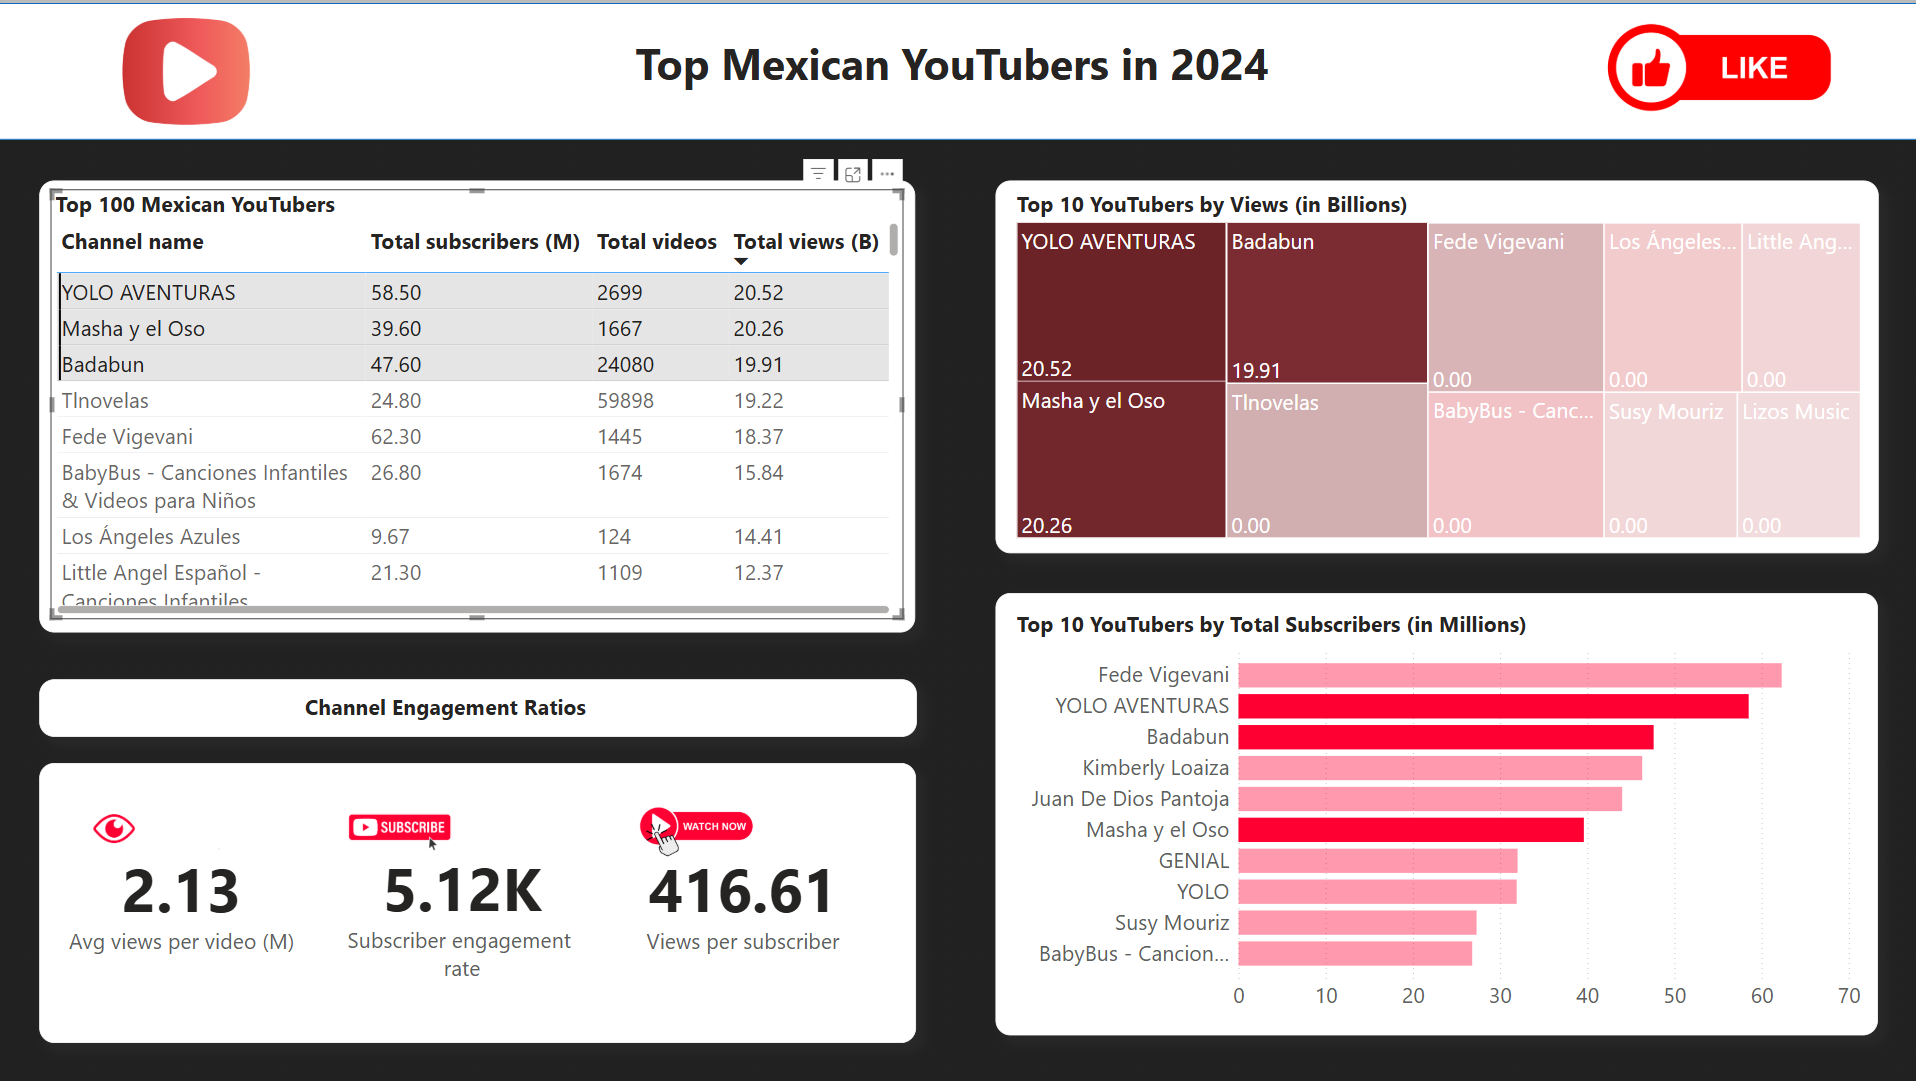

Layout of this report page (visuals, bound fields, positions):
{"tool":"powerbi","page":{"name":"Page 1","canvas":[1920,1080],"ordinal":0},"visuals":[{"type":"shape","title":"White rectangle","box":[0,0,1920,137.1],"z":0},{"type":"shape","title":"White rectangle","box":[41,760,877,280.2],"z":0,"group":"g1"},{"type":"shape","title":"White rectangle","box":[997,177,883,373],"z":1000},{"type":"card","title":"Views per subscriber","fields":{"Values":["_measures.Views per subscriber"]},"box":[614.6,773.3,260.3,248],"z":1000,"group":"g1"},{"type":"shape","title":"White rectangle","box":[997.3,590,882.7,442.7],"z":2000},{"type":"card","title":"Subscriber engagement rate","fields":{"Values":["_measures.Subscribers engagement rate"]},"box":[334.6,772.4,258.8,248],"z":2000,"group":"g1"},{"type":"shape","title":"White rectangle","box":[41.5,676.5,877.7,57.7],"z":3000},{"type":"card","title":"Avg views per video (M)","fields":{"Values":["_measures.Avg_views_per_video (M)"]},"box":[53,773.3,260.3,248],"z":3000,"group":"g1"},{"type":"textbox","title":"Channel Engagement Ratios","box":[297.6,684.2,300,43.1],"z":4000},{"type":"image","title":"Watch now icon","box":[614.6,797.8,167.1,62.4],"z":4000,"group":"g1"},{"type":"shape","title":"T","box":[41.8,177.3,876.4,451.8],"z":5000},{"type":"image","title":"View icon","box":[88,786.7,138.1,83.4],"z":5000,"group":"g1"},{"type":"tableEx","title":"Top 100 Mexican YouTubers","fields":{"Values":["mx_youtubers_data2024.channel_name","_measures.Total_subscribers (M)","_measures.Total_videos","_measures.Total_views (B)"]},"box":[52.7,186.4,852.7,430],"z":6000},{"type":"image","title":"Subscribe icon","box":[320.4,803.7,162.7,49],"z":6000,"group":"g1"},{"type":"treemap","title":"Top 10 YouTubers by Views (in Billions)","fields":{"Group":["mx_youtubers_data2024.channel_name"],"Values":["_measures.Total views (B)"]},"box":[1014,186,854,354],"z":7000},{"type":"clusteredBarChart","title":"Top 10 YouTubers by Total Subscribers (in Millions)","fields":{"Category":["mx_youtubers_data2024.channel_name"],"Y":["_measures.Total subscribers (M)"]},"box":[1014.3,605.7,854.3,411.4],"z":8000},{"type":"group","id":"g1","title":"Group 1","box":[41,760,877,281],"z":9000},{"type":"textbox","box":[611.4,25.7,697.1,85.7],"z":10000},{"type":"image","box":[0,0,370,137.1],"z":11000},{"type":"image","box":[1522.9,0,397.1,137.1],"z":12000}]}

Visuals, with their boxes in screenshot pixels (x1, y1, x2, y2), scaled from the page's 1920x1080 canvas onto the 1916x1081 screenshot:
"White rectangle" shape: <region>0, 0, 1915, 137</region>
"White rectangle" shape: <region>41, 761, 916, 1041</region>
"White rectangle" shape: <region>995, 177, 1876, 551</region>
"Views per subscriber" card: <region>613, 774, 873, 1022</region>
"White rectangle" shape: <region>995, 591, 1876, 1034</region>
"Subscriber engagement rate" card: <region>334, 773, 592, 1021</region>
"White rectangle" shape: <region>41, 677, 917, 735</region>
"Avg views per video (M)" card: <region>53, 774, 313, 1022</region>
"Channel Engagement Ratios" textbox: <region>297, 685, 596, 728</region>
"Watch now icon" image: <region>613, 799, 780, 861</region>
"T" shape: <region>42, 177, 916, 630</region>
"View icon" image: <region>88, 787, 226, 871</region>
"Top 100 Mexican YouTubers" tableEx: <region>53, 187, 904, 617</region>
"Subscribe icon" image: <region>320, 804, 482, 853</region>
"Top 10 YouTubers by Views (in Billions)" treemap: <region>1012, 186, 1864, 540</region>
"Top 10 YouTubers by Total Subscribers (in Millions)" clusteredBarChart: <region>1012, 606, 1865, 1018</region>
"Group 1" group: <region>41, 761, 916, 1042</region>
textbox: <region>610, 26, 1306, 112</region>
image: <region>0, 0, 369, 137</region>
image: <region>1520, 0, 1915, 137</region>
